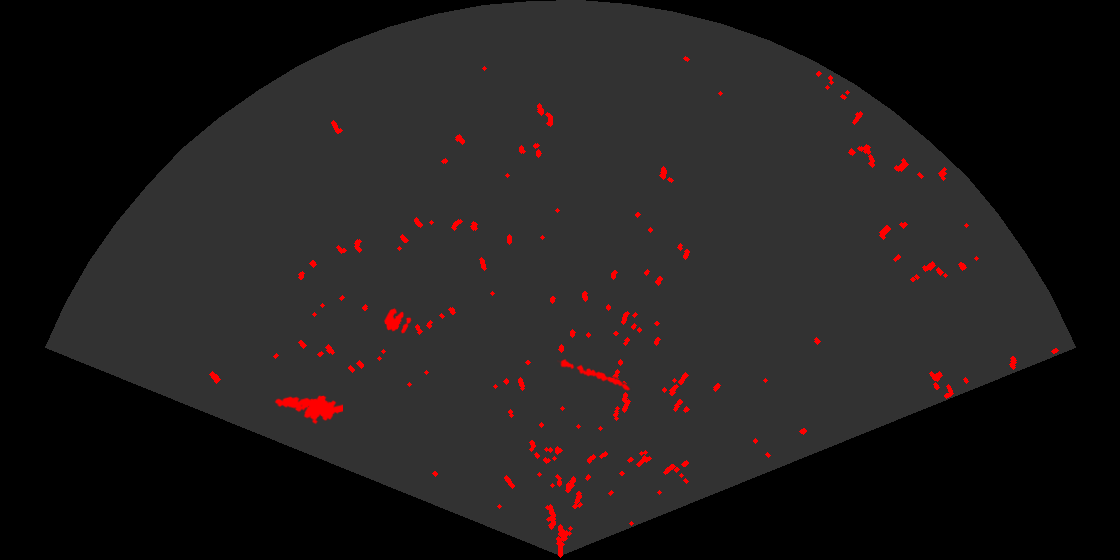ball: (382, 306, 413, 335)
chain: (557, 357, 632, 393)
frogman: (273, 394, 343, 426)
